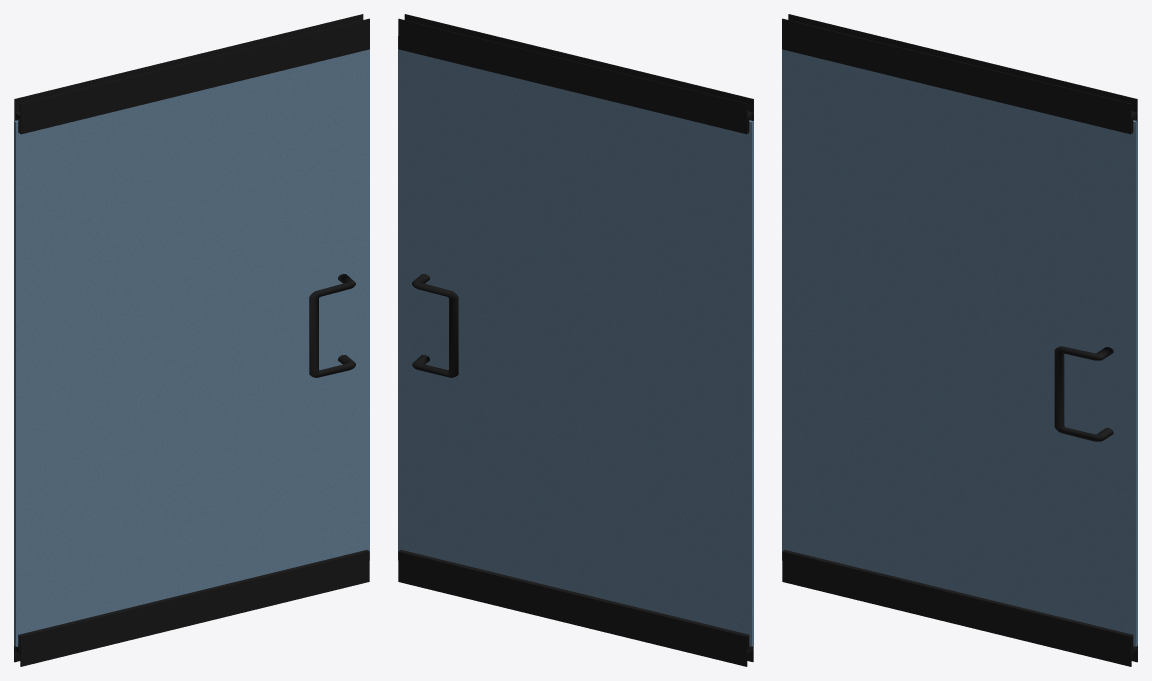
File: ARC0810026.fbx
The picture shows the model from 3 angles, left to right: view 1: azimuth 30°, elevation 25°; view 2: azimuth 150°, elevation 25°; view 3: azimuth 330°, elevation 25°; orthographic projection.
Parts seen in each view (by area): view 1: smARC0810026; view 2: smARC0810026; view 3: smARC0810026.
Part boxes in pixels (left/top/right/bottom): smARC0810026: left=14, top=14, right=369, bottom=666; smARC0810026: left=398, top=14, right=753, bottom=666; smARC0810026: left=782, top=14, right=1137, bottom=666.
Bounding box in the file's own units: 195 × 296 × 24.98.
